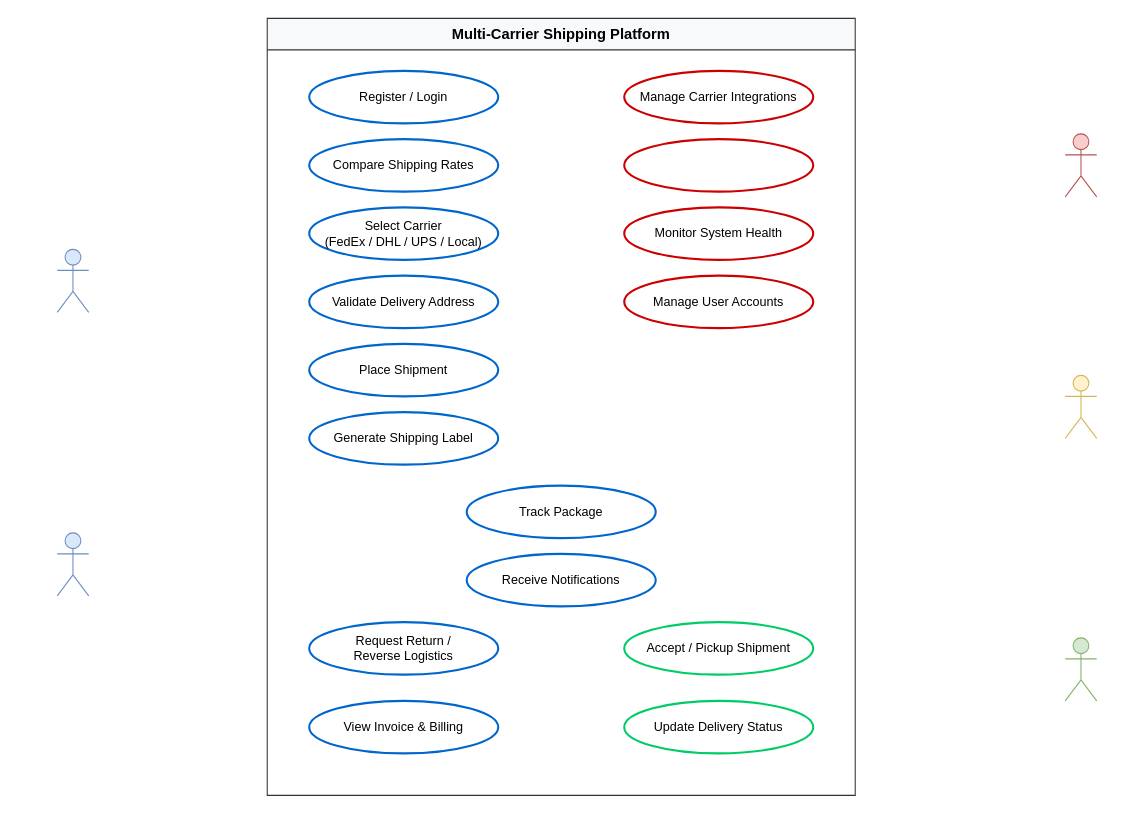
Image size: 1141x814. Some labels were removed from this diagram. The shapes that lost their labels are listed below. From the top down, each one's box as (x1, y1, x2, y2) in pixels, then its label:
(623, 138, 814, 192): Configure Markup Rules
(1064, 133, 1097, 197): Platform Admin
(56, 248, 89, 312): Business Customer
(1064, 374, 1097, 438): Finance Team
(56, 532, 89, 596): End Recipient
(1064, 637, 1097, 701): Carrier Agent
